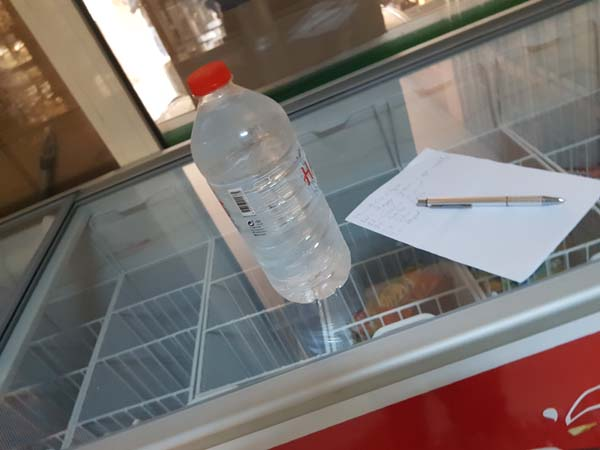saka500mlsu: (181, 55, 357, 307)
